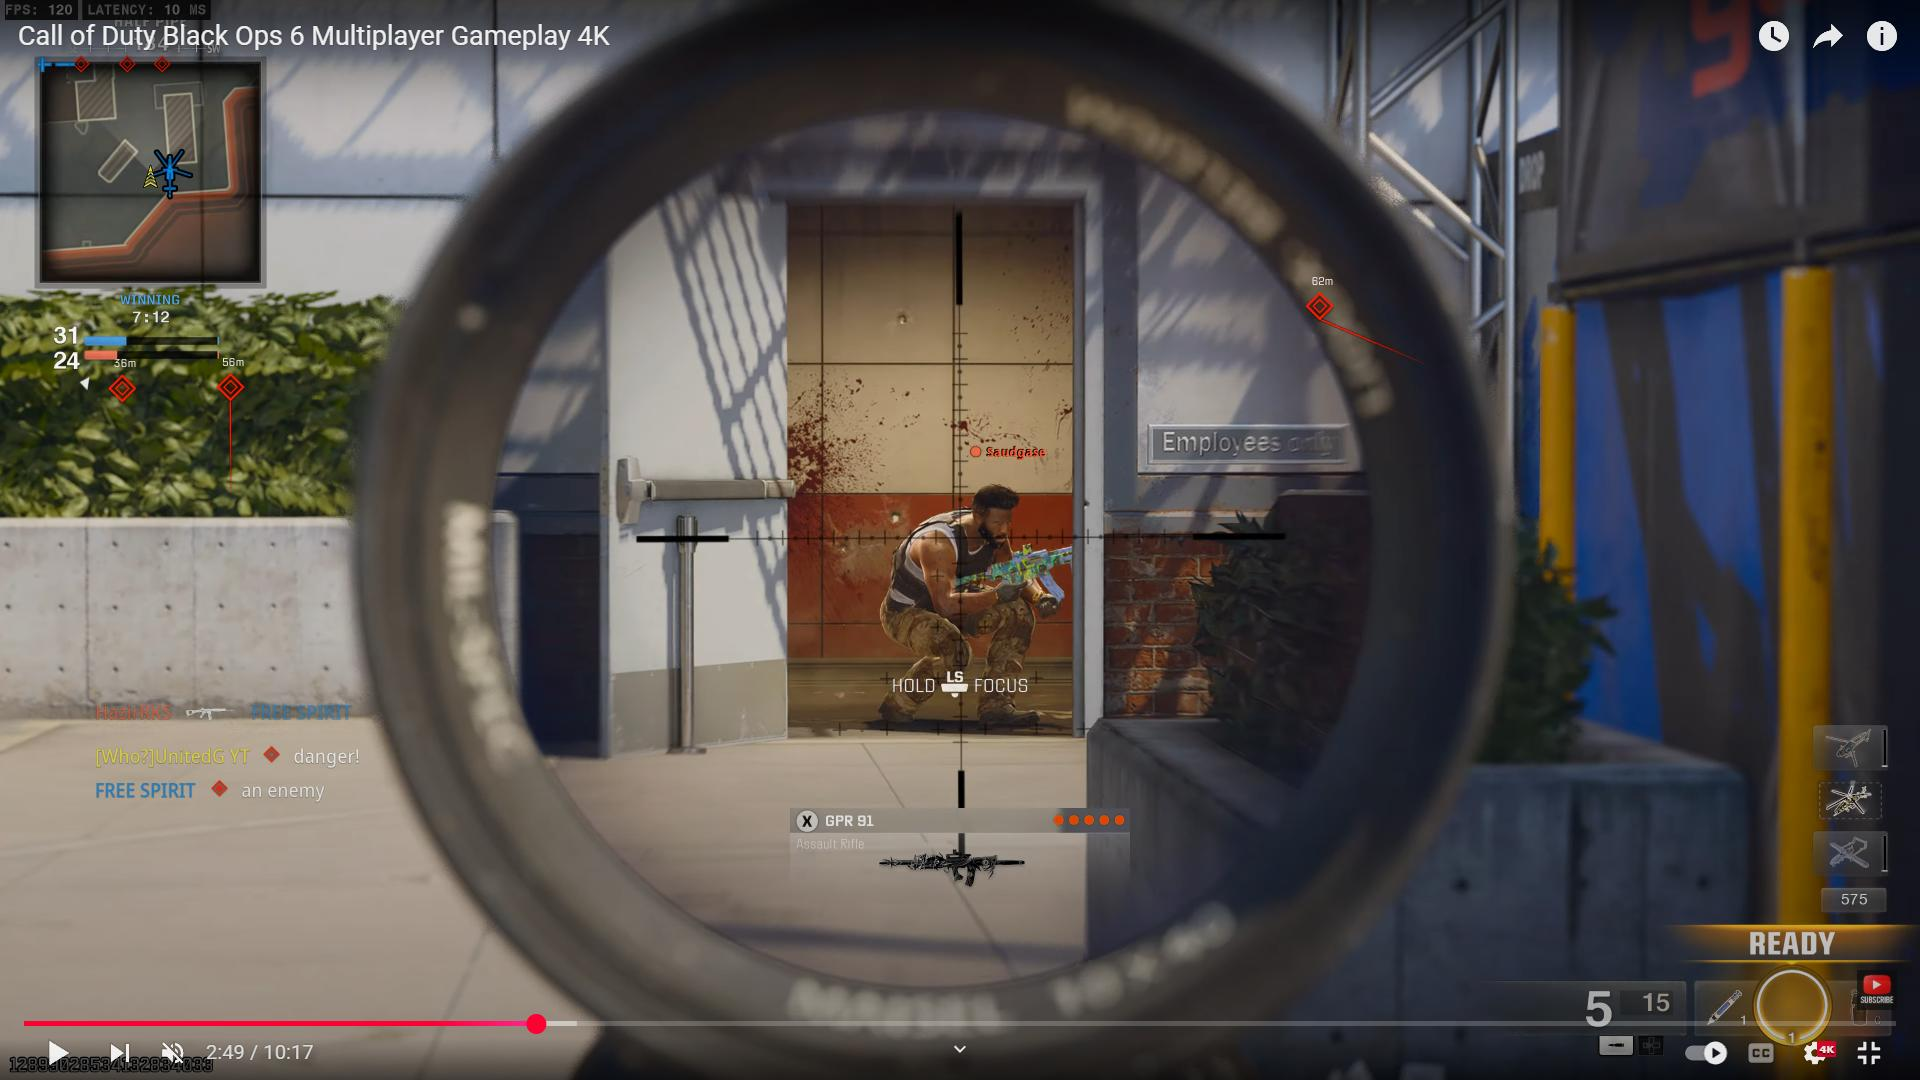Enemy: (872, 483, 1062, 721)
